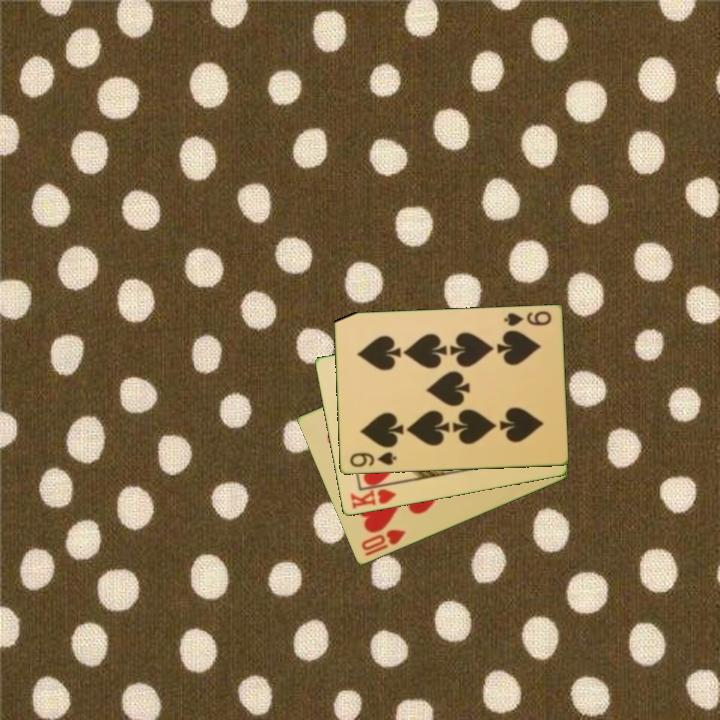10h: (357, 526, 408, 559)
9s: (500, 307, 554, 329), (346, 449, 399, 470)
Kh: (347, 480, 401, 512)
